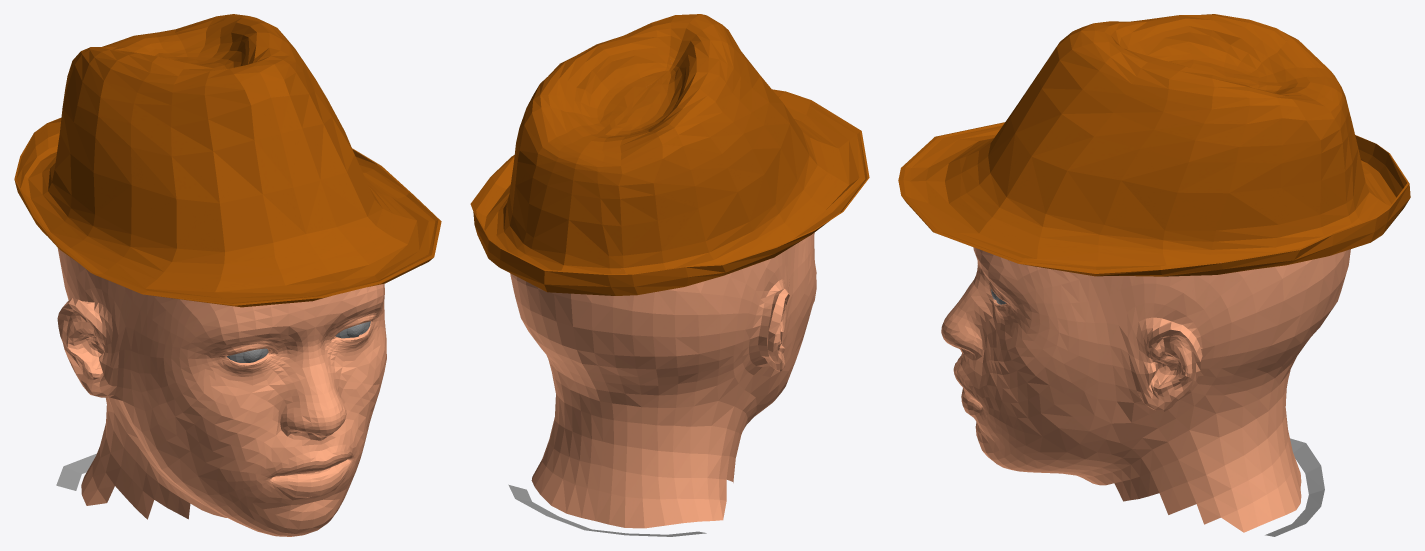
File: head.dae
3 views of the same model, side by side, from view 1: azimuth 30°, elevation 25°; view 2: azimuth 150°, elevation 25°; view 3: azimuth 270°, elevation 25° (orthographic). The views are drawn at different scales.
Visible parts, largest first — view 1: node; view 2: node; view 3: node.
Part boxes in pixels (left/top/right/bottom): node: left=14, top=14, right=441, bottom=536; node: left=470, top=14, right=869, bottom=536; node: left=898, top=14, right=1410, bottom=536.
Size of the model in its own units: 0.1863 by 0.2573 by 0.2578.
1 material, 1 textured.
